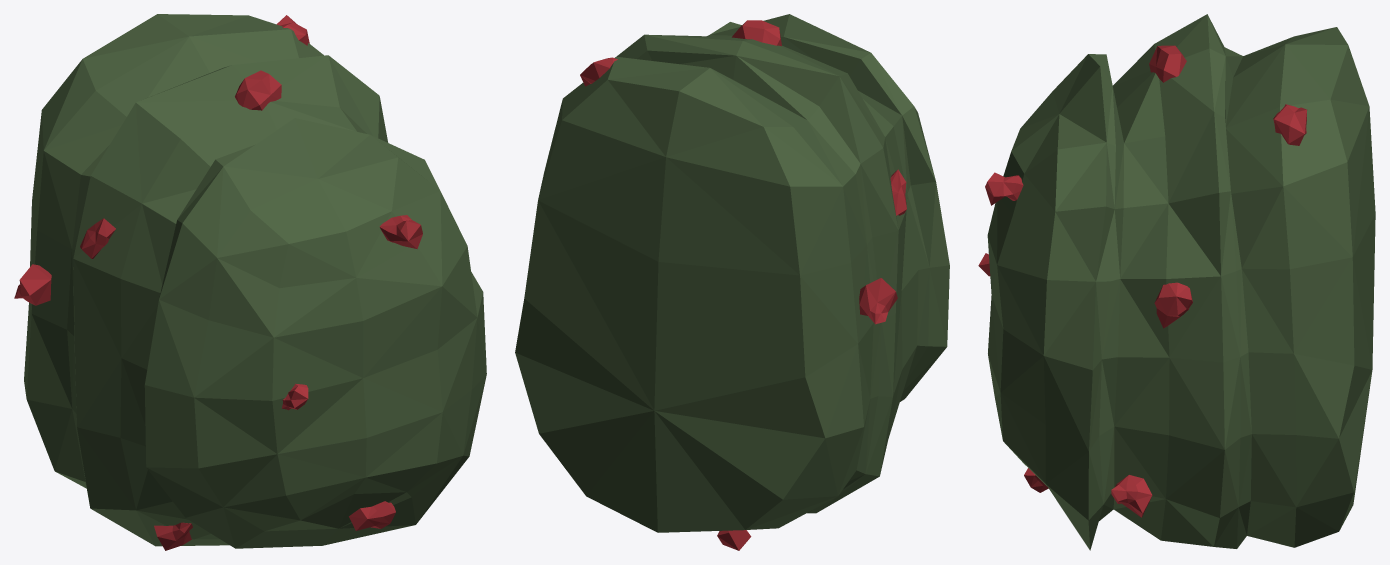
The model's file is shrub-berries-1.obj.
3 renders of one model, left to right at view 1: azimuth 30°, elevation 25°; view 2: azimuth 150°, elevation 25°; view 3: azimuth 270°, elevation 25°, orthographic. The views are drawn at different scales.
Visible parts, largest first — view 1: shrub-berries-1; view 2: shrub-berries-1; view 3: shrub-berries-1.
Part boxes in pixels (bbox=[...]): shrub-berries-1: bbox=[14, 14, 486, 550]; shrub-berries-1: bbox=[515, 14, 949, 550]; shrub-berries-1: bbox=[978, 14, 1375, 550].
Size of the model in its own units: 58.93 by 72.74 by 54.
